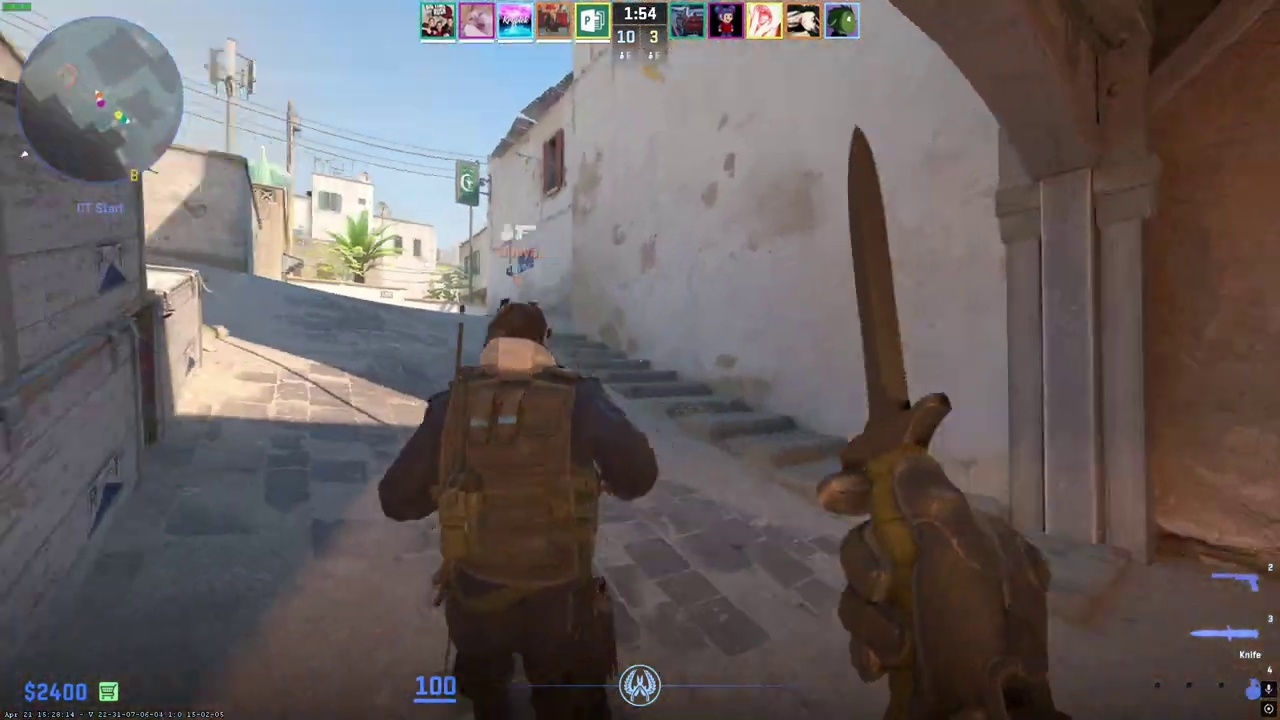CT: (402, 298, 636, 720)
